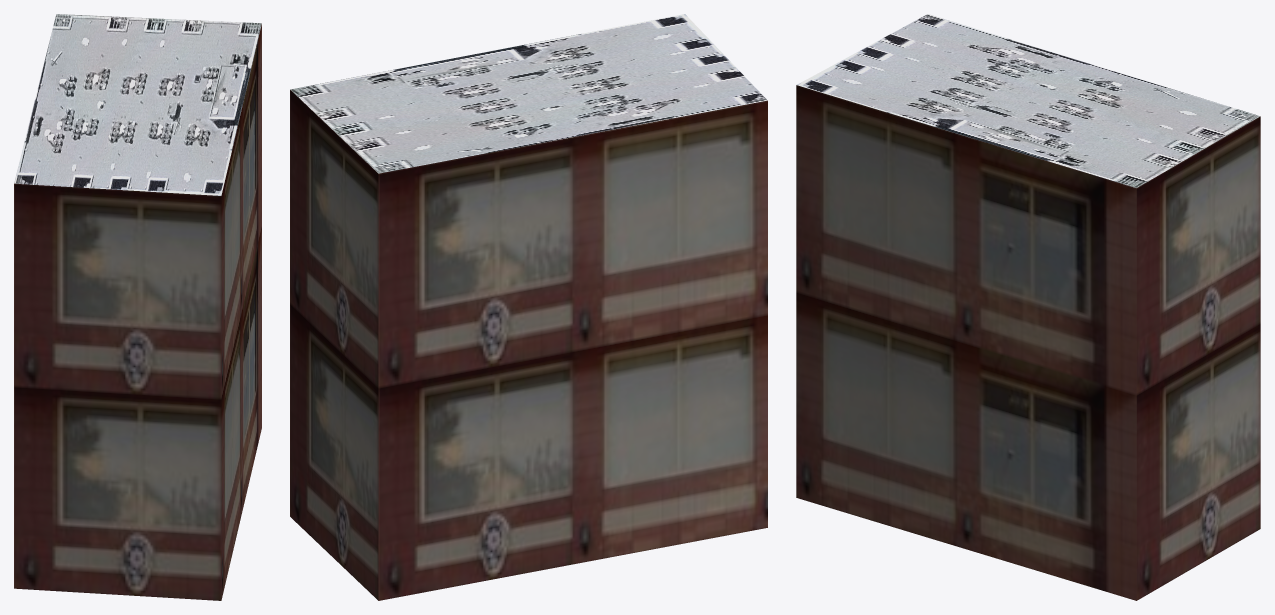
The model's file is ResTex__5271.fbx.
The picture shows the model from 3 angles, left to right: view 1: azimuth 30°, elevation 25°; view 2: azimuth 150°, elevation 25°; view 3: azimuth 270°, elevation 25°; orthographic projection. The views are drawn at different scales.
Parts seen in each view (by area): view 1: CityEngineMaterial_13_m, CityEngineMaterial_8_m; view 2: CityEngineMaterial_13_m, CityEngineMaterial_8_m; view 3: CityEngineMaterial_13_m, CityEngineMaterial_8_m.
Part boxes in pixels (bbox=[...]): CityEngineMaterial_13_m: bbox=[14, 24, 261, 600]; CityEngineMaterial_8_m: bbox=[14, 14, 261, 195]; CityEngineMaterial_13_m: bbox=[290, 90, 767, 600]; CityEngineMaterial_8_m: bbox=[290, 14, 767, 173]; CityEngineMaterial_13_m: bbox=[796, 85, 1260, 600]; CityEngineMaterial_8_m: bbox=[797, 14, 1260, 187].
Size of the model in its own units: 5.43 by 6 by 6.12.
2 materials, 2 textured.
